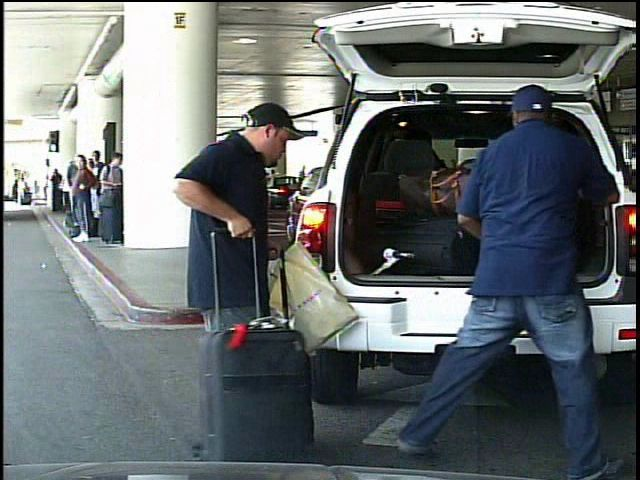person: (407, 77, 615, 479), (151, 96, 294, 462), (296, 163, 308, 196), (17, 174, 28, 205)
